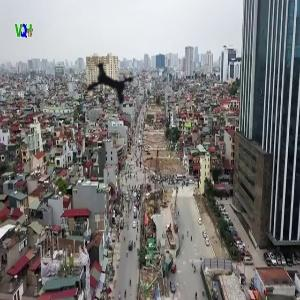drone: (63, 36, 164, 137)
